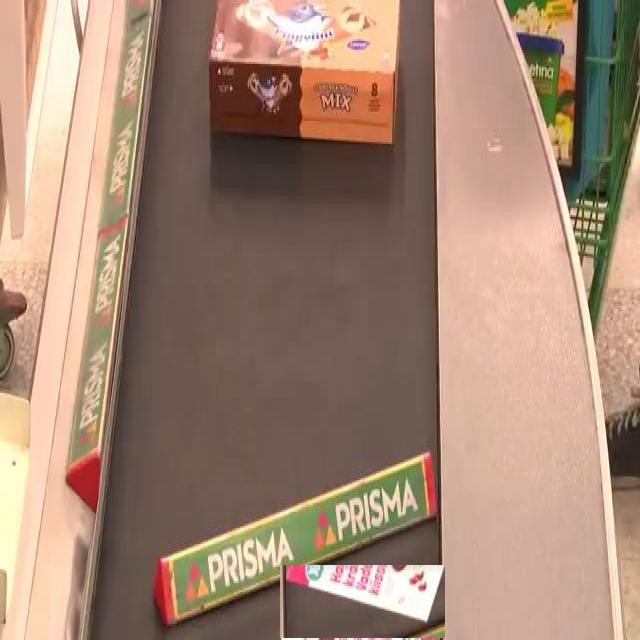food-box: (204, 0, 414, 151), (280, 564, 446, 638)
